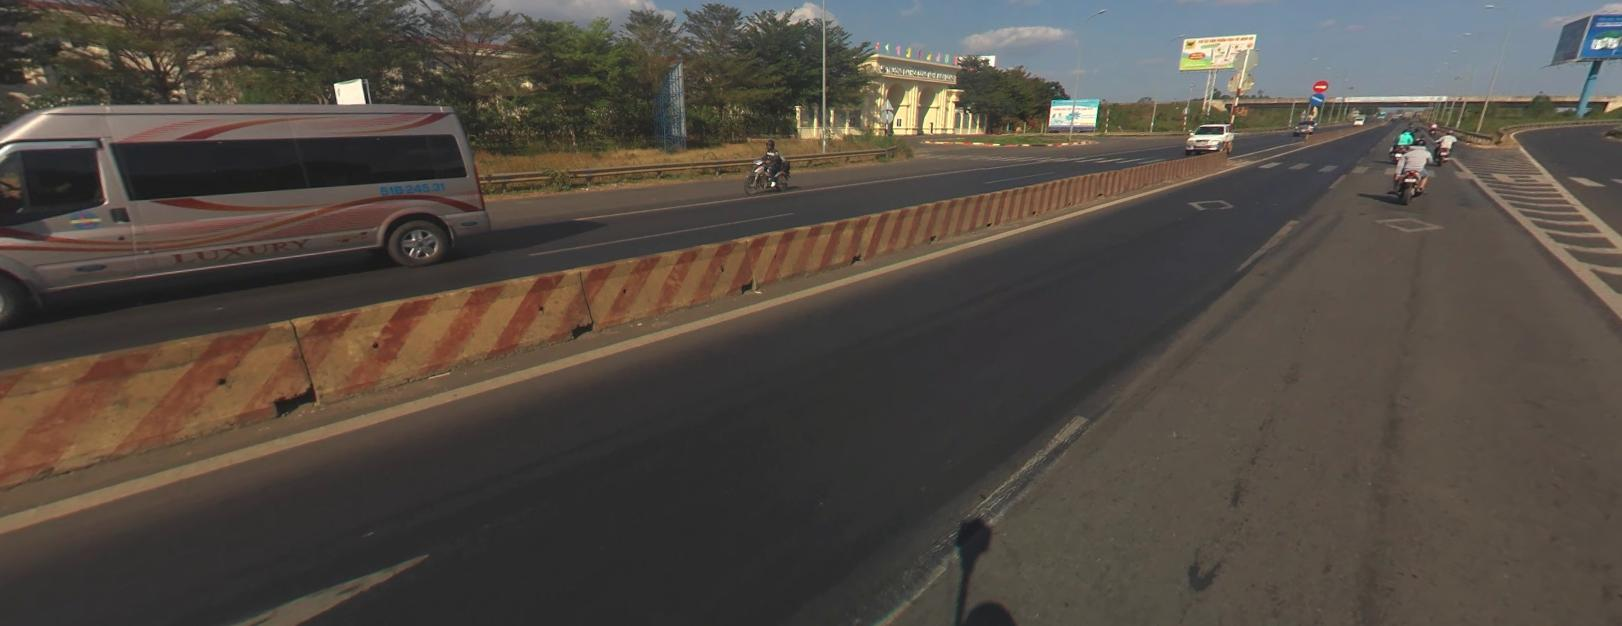Cam nguoc chieu: (1312, 79, 1328, 91)
Hieu lenh: (1309, 92, 1324, 105)
